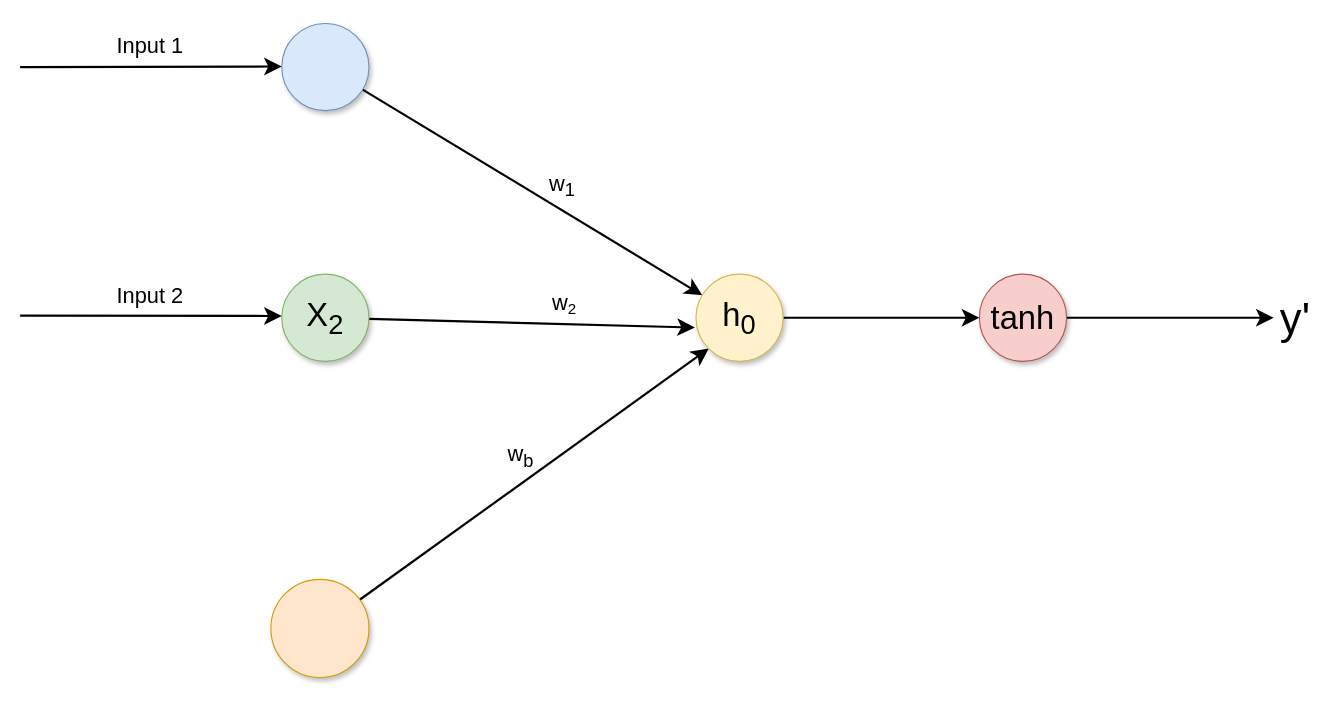
Some shapes in this 1335 by 704 pixel diagram are drawn without their labels. Each missing label, with the centre of its shape:
bias b = 1: pixel 320 629
X 1: pixel 326 68
